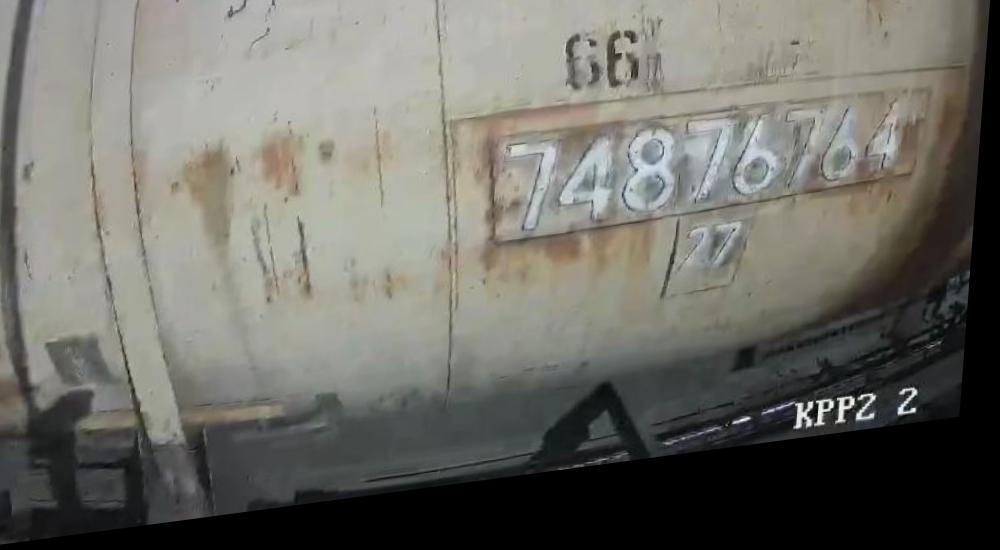Wagon-number: (501, 112, 918, 249)
